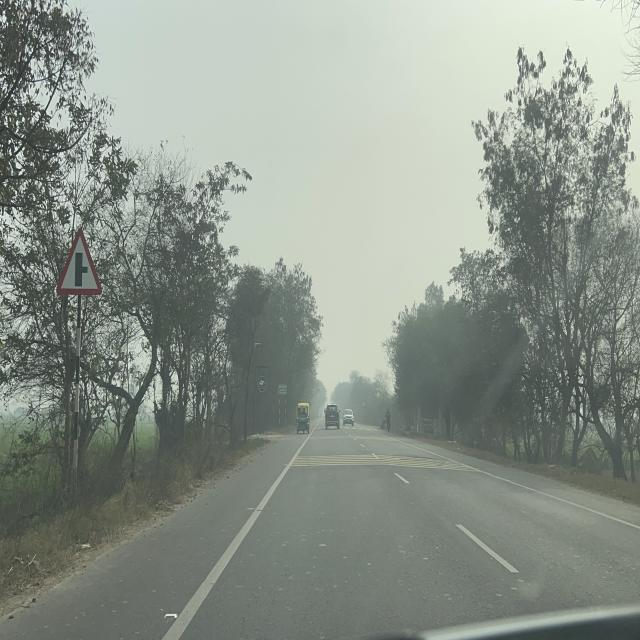GENERAL: (278, 384, 287, 395)
SIDE_ROAD_RIGHT: (54, 224, 103, 299)
